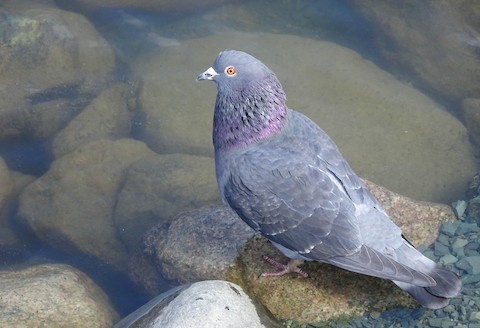pigeon: (190, 44, 464, 315)
